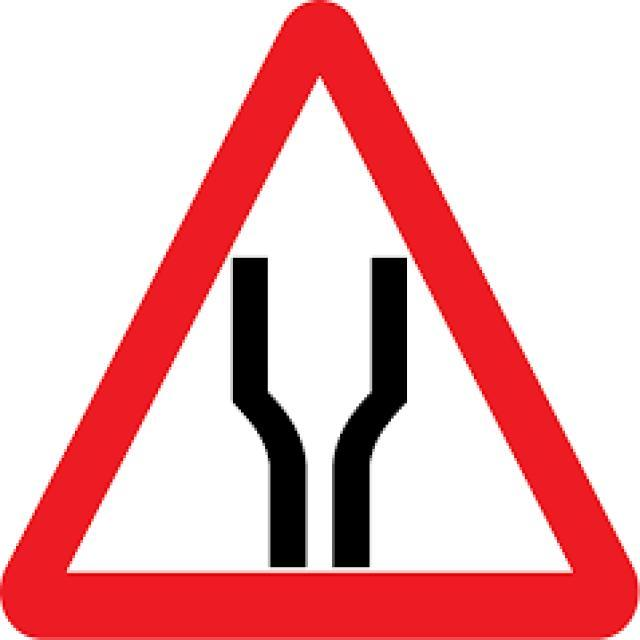road widens ahead: (18, 15, 626, 626)
